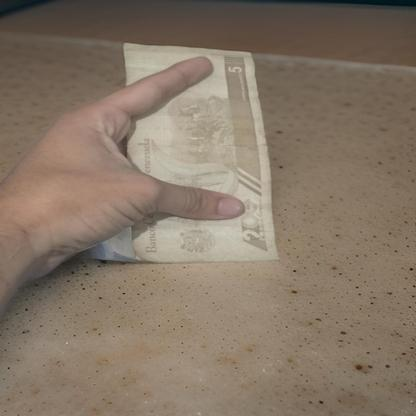five-back-vef: (124, 42, 280, 263)
